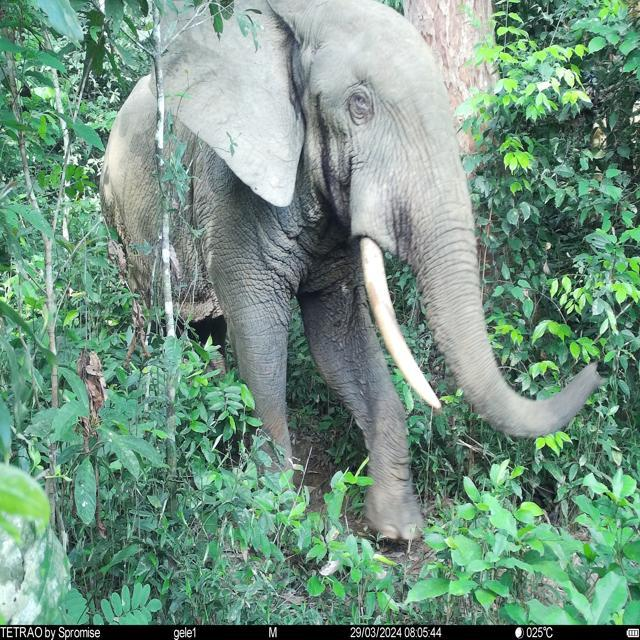ear: (148, 0, 306, 209)
elephant: (100, 0, 602, 542)
tusk: (356, 234, 444, 412)
